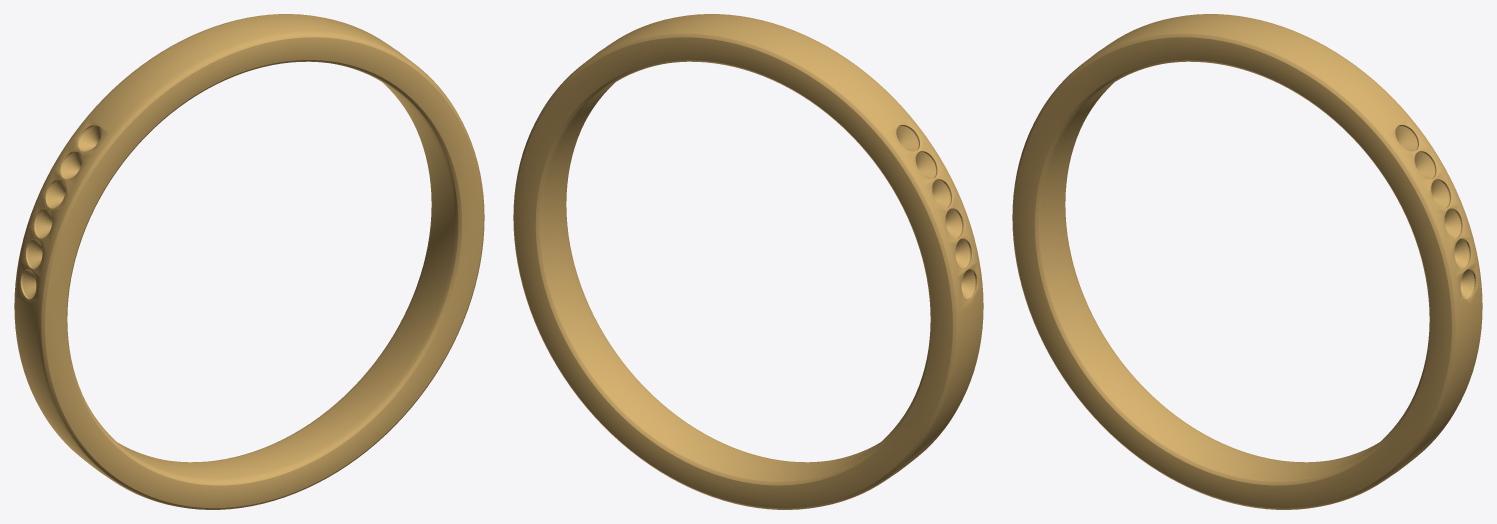
The model's file is soft-square-micro-pave-head.glb.
The picture shows the model from 3 angles, left to right: view 1: azimuth 30°, elevation 25°; view 2: azimuth 150°, elevation 25°; view 3: azimuth 330°, elevation 25°; orthographic projection.
Parts seen in each view (by area): view 1: Band; view 2: Band; view 3: Band.
Part boxes in pixels (bbox=[...]): Band: bbox=[14, 14, 484, 509]; Band: bbox=[513, 14, 983, 509]; Band: bbox=[1012, 14, 1482, 509].
Size of the model in its own units: 19.6 by 19.6 by 2.3.
